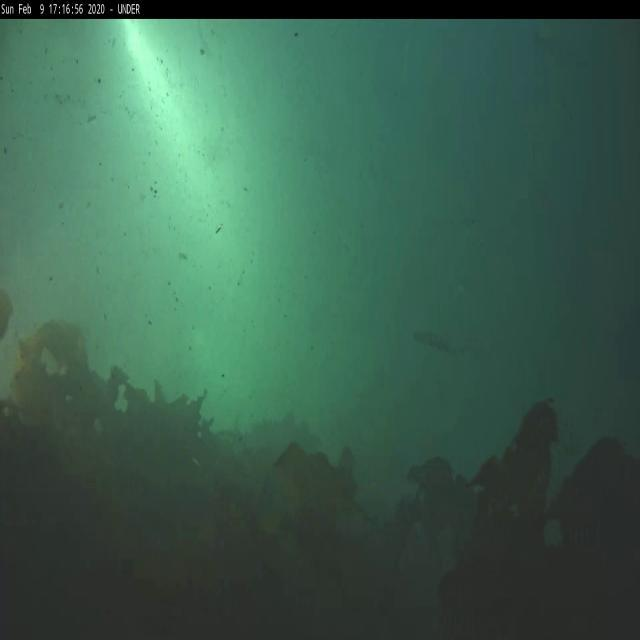fish: (412, 330, 459, 356)
